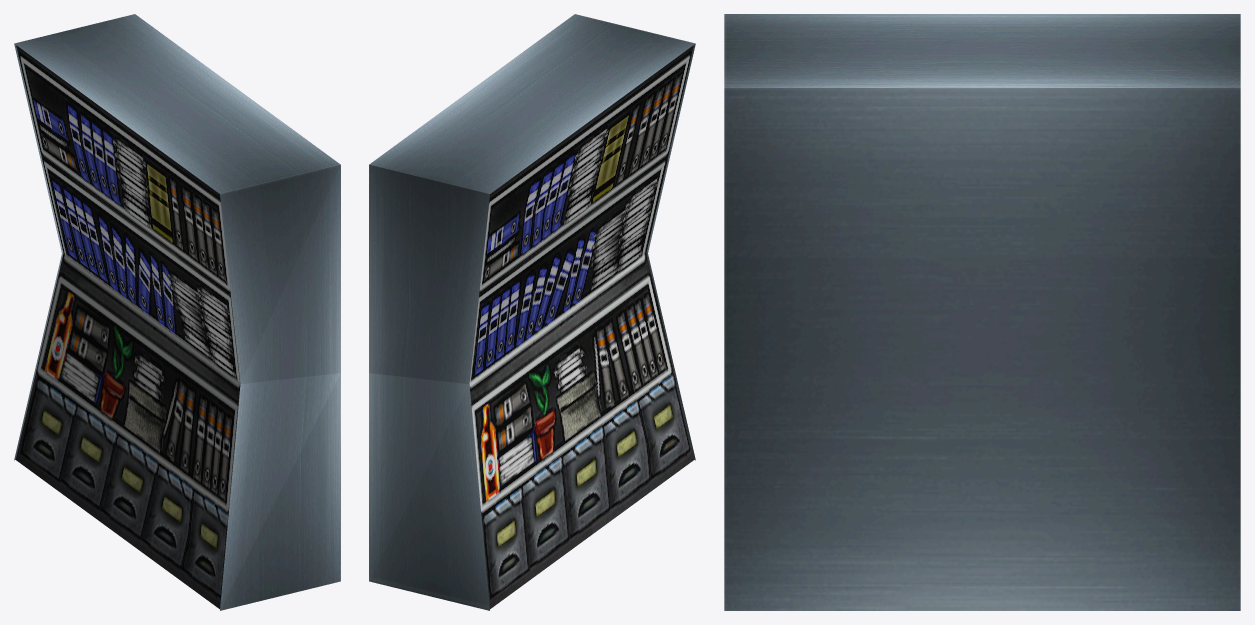
Rendered from BüroWarenSchrank [Grau]_2025.glb.
3 renders of one model, left to right at view 1: azimuth 30°, elevation 25°; view 2: azimuth 150°, elevation 25°; view 3: azimuth 270°, elevation 25°, orthographic. The views are drawn at different scales.
Visible parts, largest first — view 1: pCubeShape74, pCubeShape75; view 2: pCubeShape74, pCubeShape75; view 3: pCubeShape75.
Part boxes in pixels (x1,y1,x2,y2): pCubeShape74: [16, 45, 240, 608]; pCubeShape75: [14, 14, 340, 610]; pCubeShape74: [469, 45, 693, 608]; pCubeShape75: [369, 14, 695, 610]; pCubeShape75: [724, 14, 1240, 610].
Bounding box in the file's own units: 0.0837 × 0.2755 × 0.2465.
2 materials, 2 textured.
